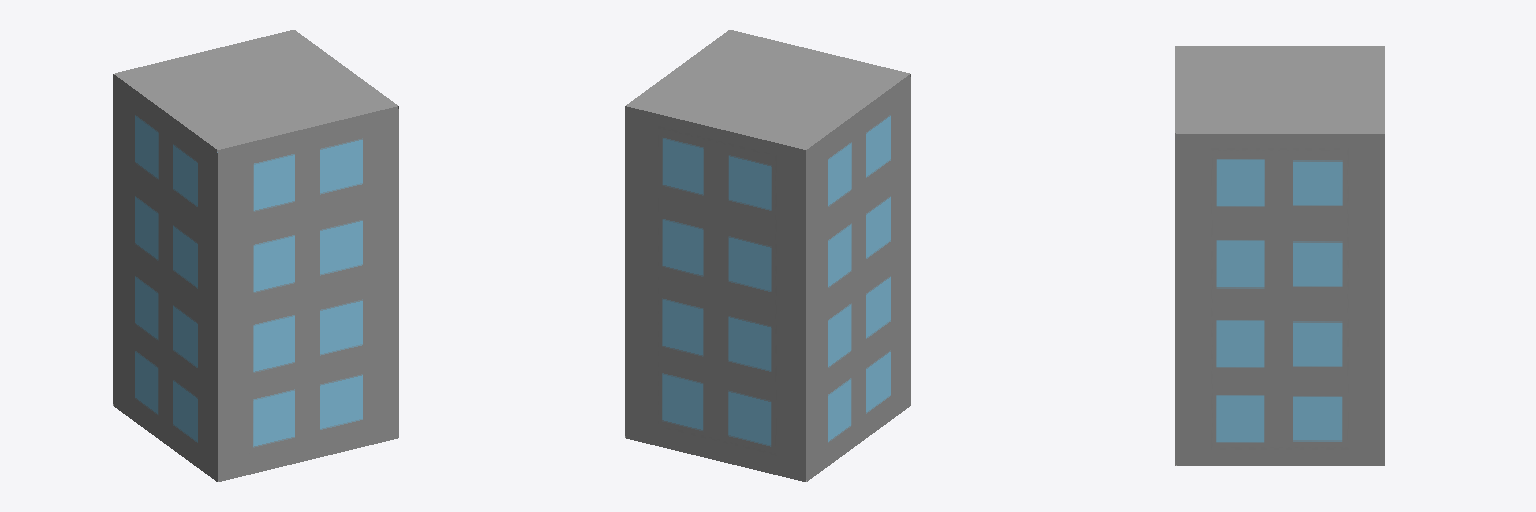
The picture shows the model from 3 angles: view 1: azimuth 30°, elevation 25°; view 2: azimuth 150°, elevation 25°; view 3: azimuth 270°, elevation 25°; orthographic projection.
Visible parts, largest first — view 1: Cube.001; view 2: Cube.001; view 3: Cube.001.
Boxes of the visible parts, box(x1,y1,x2,y2) form: Cube.001: box(113, 30, 398, 481); Cube.001: box(625, 30, 910, 481); Cube.001: box(1175, 46, 1384, 465).
Bounding box in the file's own units: 3.13 × 5.48 × 3.13.
Materials: 1 (1 with a texture image).